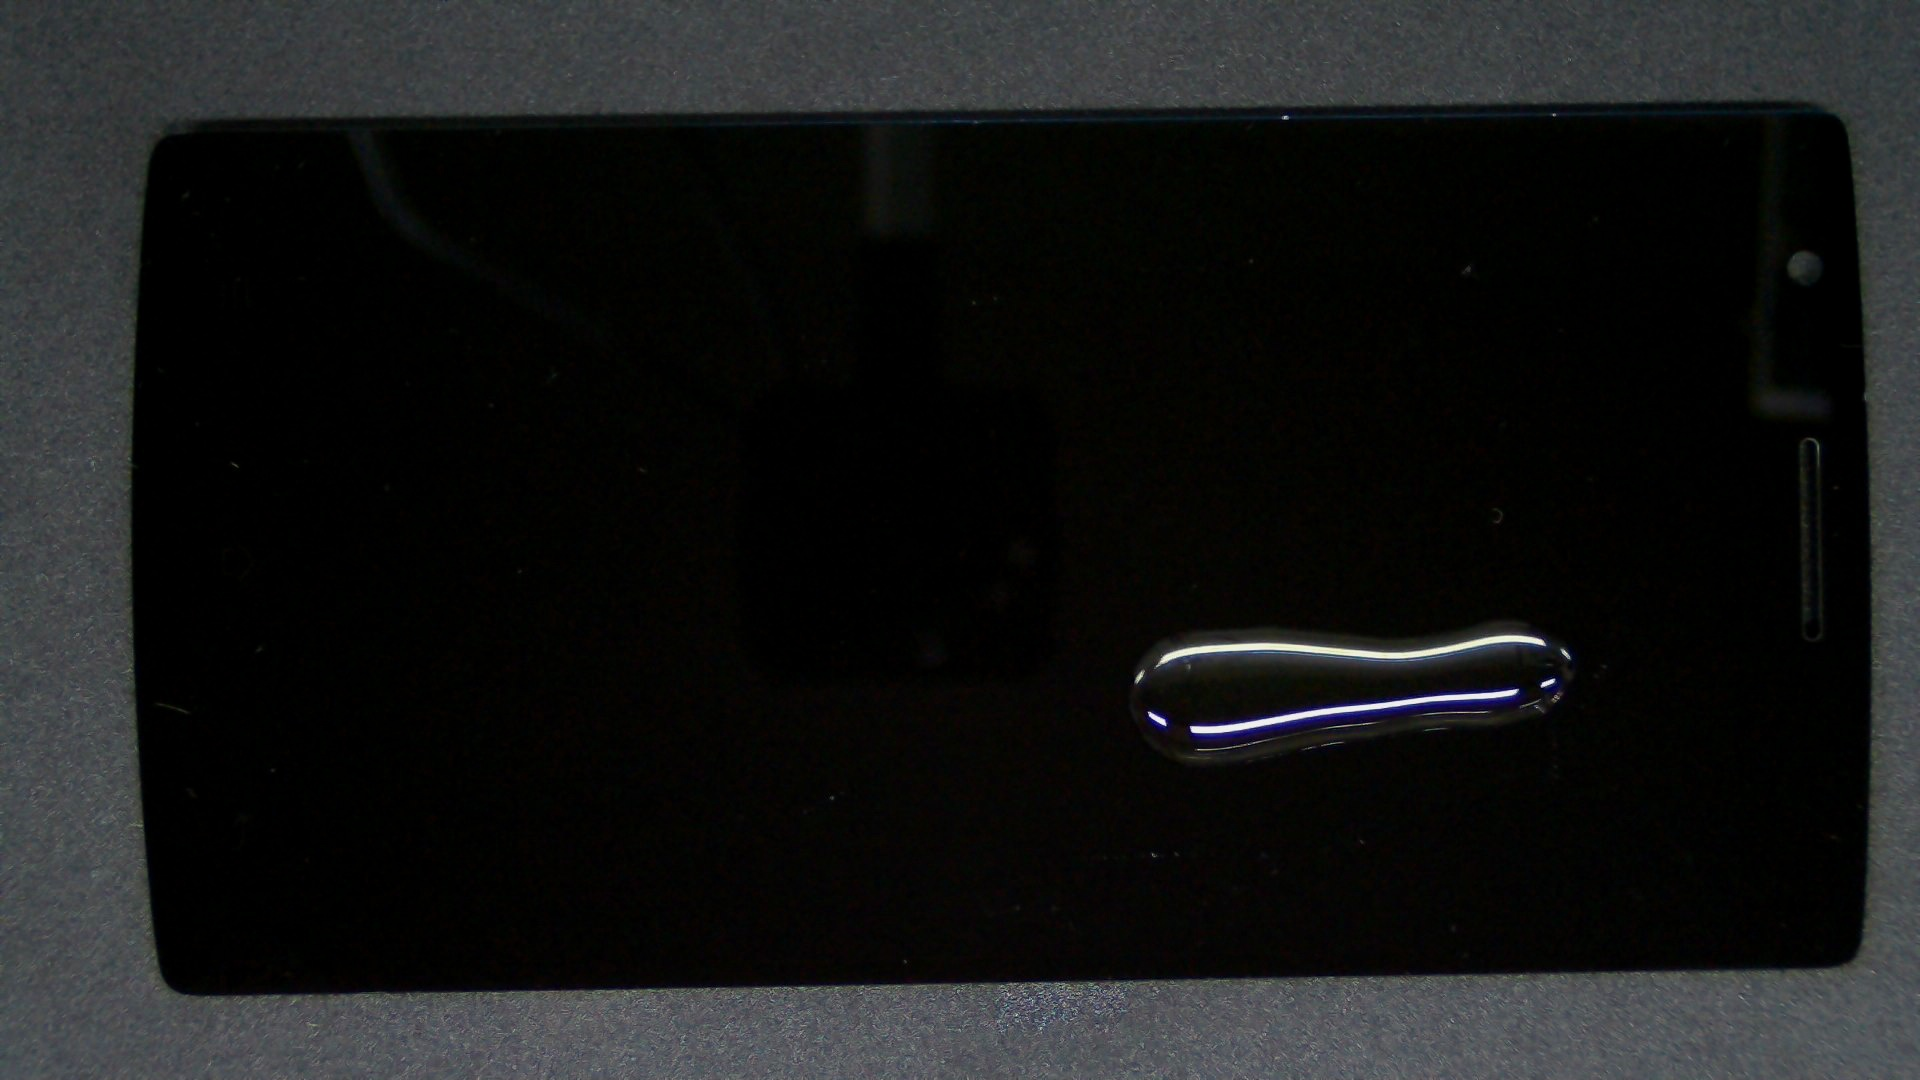oil: (754, 310, 1920, 934)
